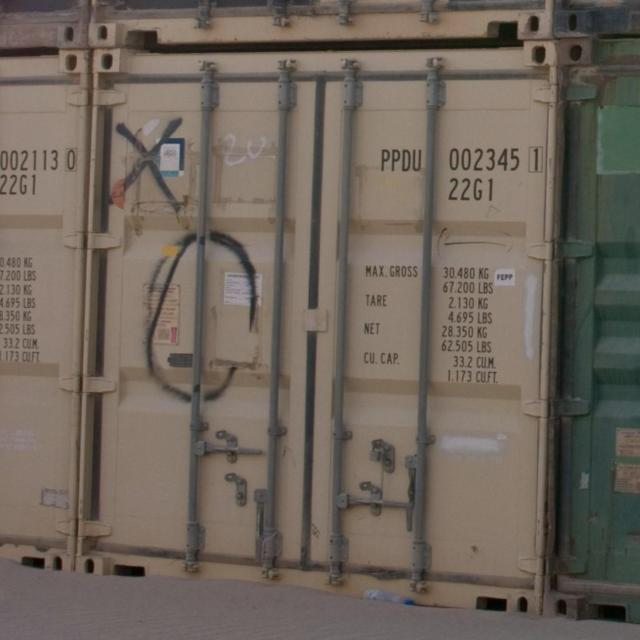ISO: (450, 175, 497, 202)
container_number: (374, 146, 550, 172)
